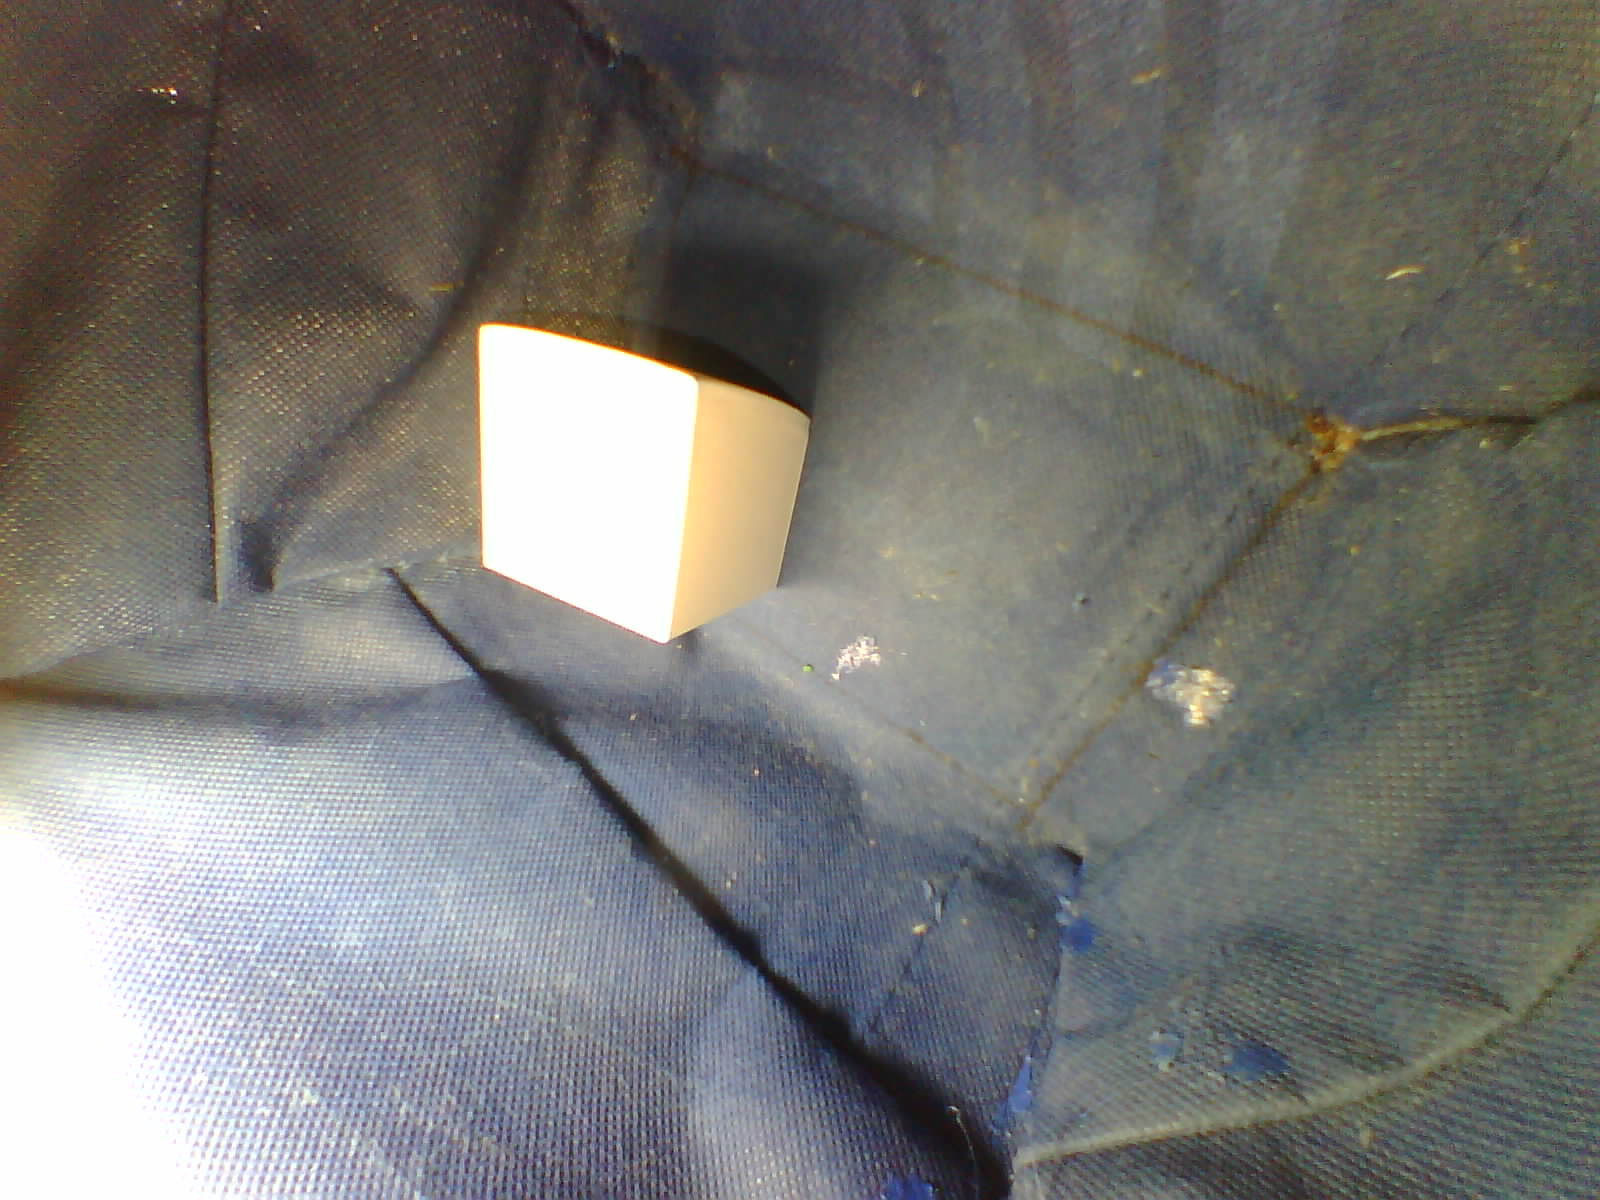cube-hard: (465, 304, 823, 657)
